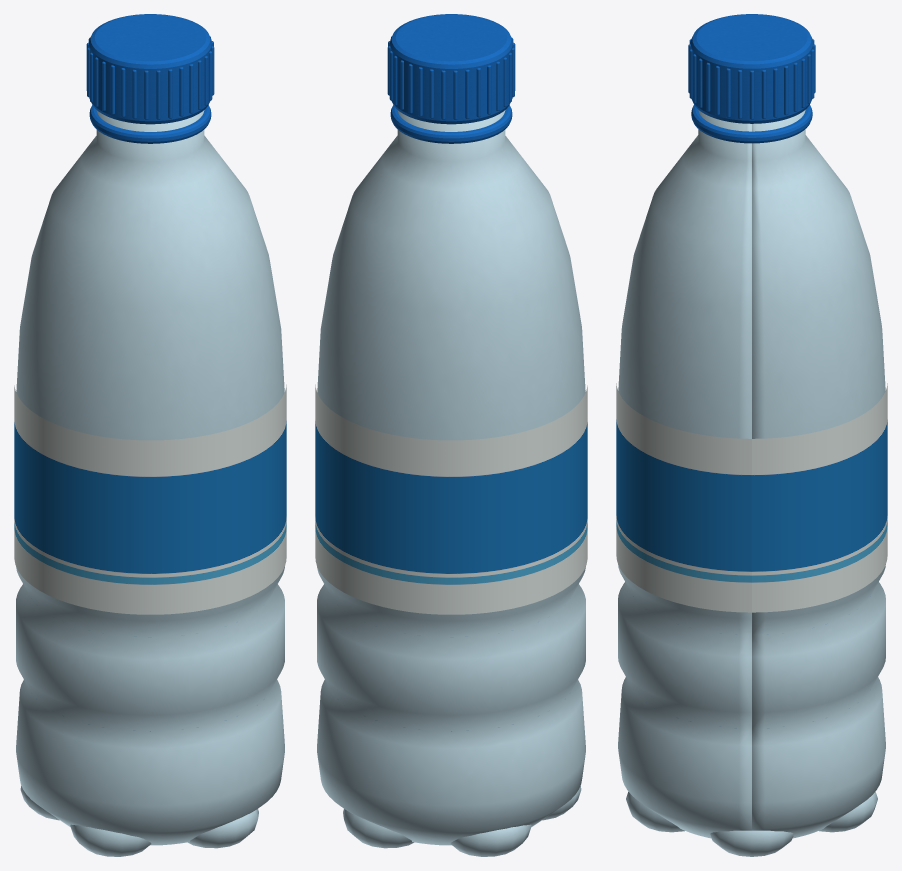
Rendered from 16_water_bottle.glb.
3 renders of one model, left to right at view 1: azimuth 30°, elevation 25°; view 2: azimuth 150°, elevation 25°; view 3: azimuth 270°, elevation 25°, orthographic.
Visible parts, largest first — view 1: 16_water_bottle__clear_bottle_shell, 16_water_bottle__printed_blue_label, 16_water_bottle__cap, 16_water_bottle__seal_ring, 16_water_bottle__base_lobe.003, 16_water_bottle__base_lobe.004; view 2: 16_water_bottle__clear_bottle_shell, 16_water_bottle__printed_blue_label, 16_water_bottle__cap, 16_water_bottle__seal_ring, 16_water_bottle__base_lobe.002, 16_water_bottle__base_lobe.001; view 3: 16_water_bottle__clear_bottle_shell, 16_water_bottle__printed_blue_label, 16_water_bottle__cap, 16_water_bottle__base_lobe, 16_water_bottle__seal_ring, 16_water_bottle__base_lobe.001, 16_water_bottle__base_lobe.004.
Boxes of the visible parts, box(x1,y1,x2,y2) form: 16_water_bottle__clear_bottle_shell: box(16, 110, 284, 845); 16_water_bottle__printed_blue_label: box(14, 384, 286, 614); 16_water_bottle__cap: box(89, 14, 211, 124); 16_water_bottle__seal_ring: box(89, 105, 211, 143); 16_water_bottle__base_lobe.003: box(70, 824, 151, 856); 16_water_bottle__base_lobe.004: box(187, 809, 258, 848); 16_water_bottle__clear_bottle_shell: box(317, 110, 585, 845); 16_water_bottle__printed_blue_label: box(315, 384, 587, 614); 16_water_bottle__cap: box(390, 14, 512, 124); 16_water_bottle__seal_ring: box(390, 105, 512, 143); 16_water_bottle__base_lobe.002: box(450, 824, 531, 856); 16_water_bottle__base_lobe.001: box(343, 809, 414, 848); 16_water_bottle__clear_bottle_shell: box(618, 110, 885, 838); 16_water_bottle__printed_blue_label: box(616, 383, 887, 612); 16_water_bottle__cap: box(690, 14, 813, 123); 16_water_bottle__base_lobe: box(710, 830, 793, 856); 16_water_bottle__seal_ring: box(691, 105, 812, 143); 16_water_bottle__base_lobe.001: box(819, 791, 877, 832); 16_water_bottle__base_lobe.004: box(626, 791, 684, 832).
Bounding box in the file's own units: 0.0708 × 0.224 × 0.0708.
Materials: 4 (4 with a texture image).
